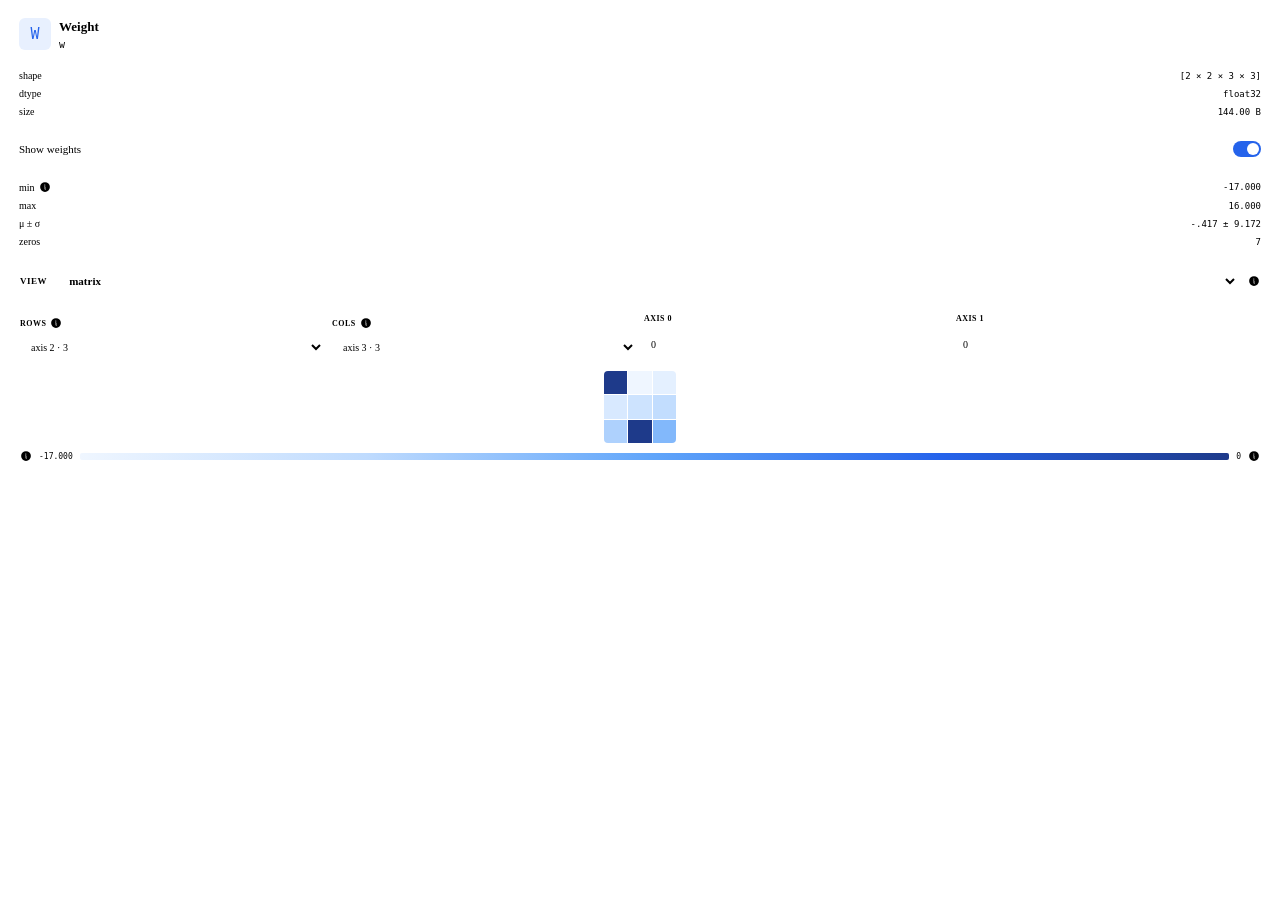
it: maps the explicit OIHW kernel preset
Select "kernel gallery" in the dropdown named "Weight inspector": (648, 281) [57, 266, 1238, 296]
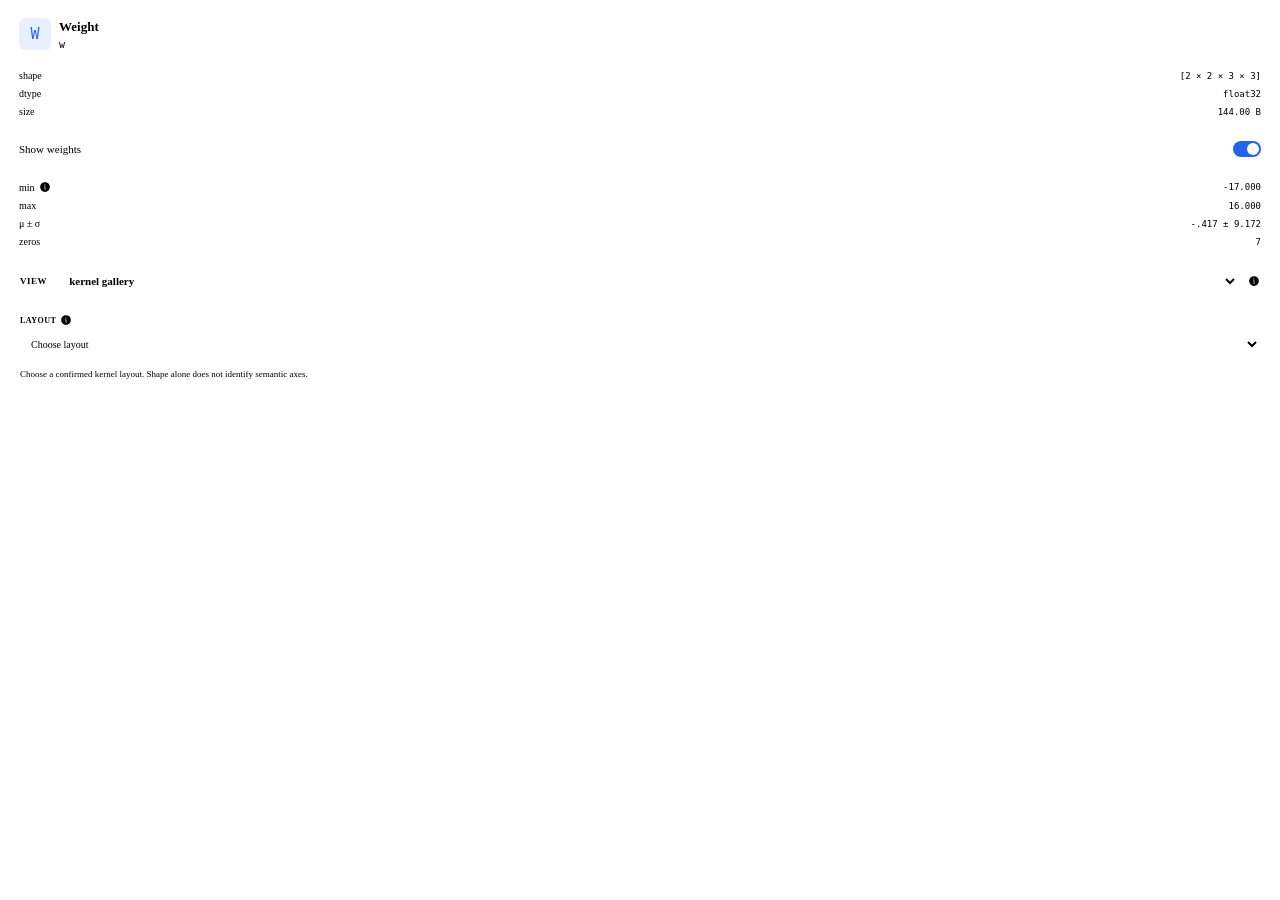
Select "OIHW" in the dropdown named "Kernel layout": (640, 344) [20, 330, 1260, 358]
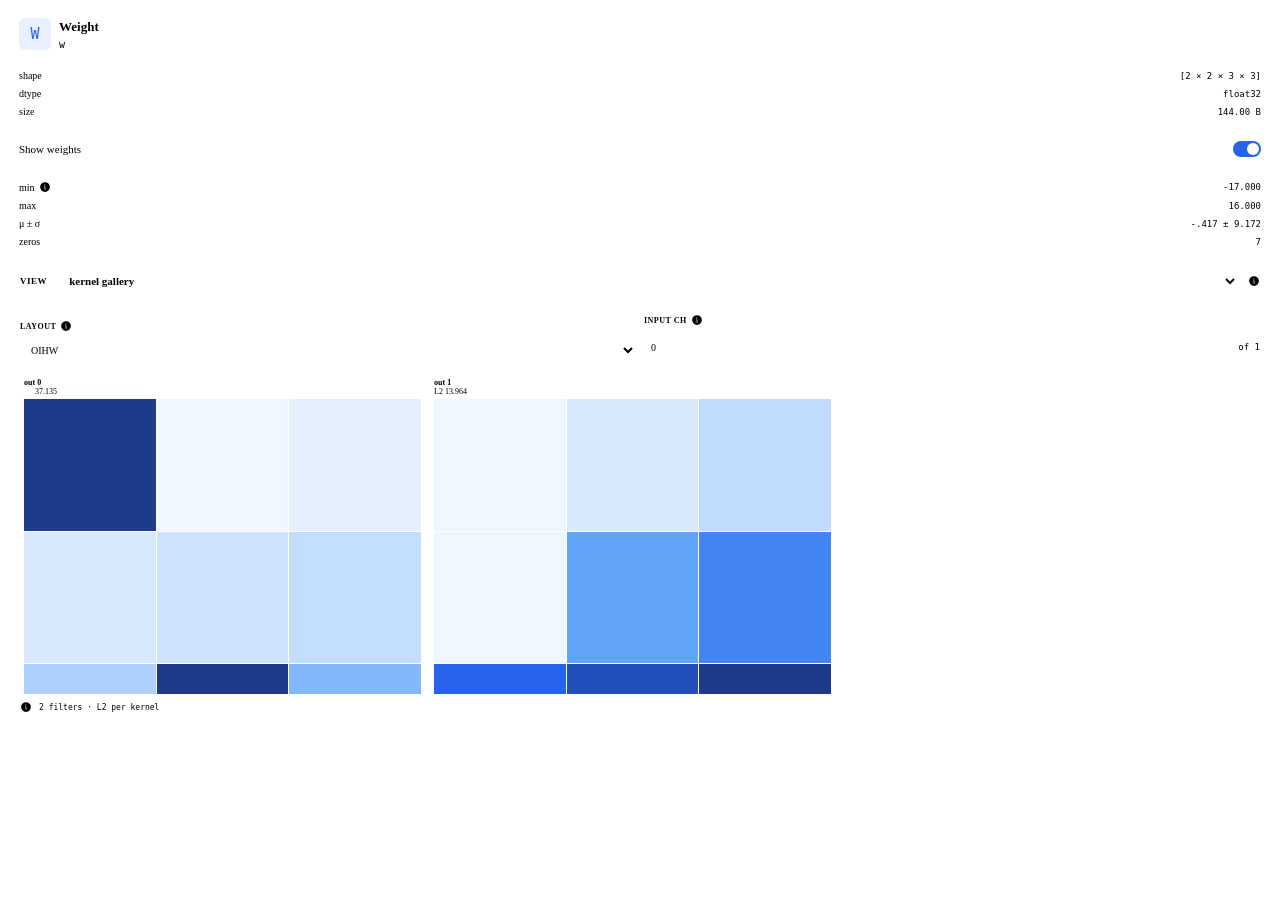
Expected: the element titled "output axis 0=0" is shown, [20, 374, 425, 694]
